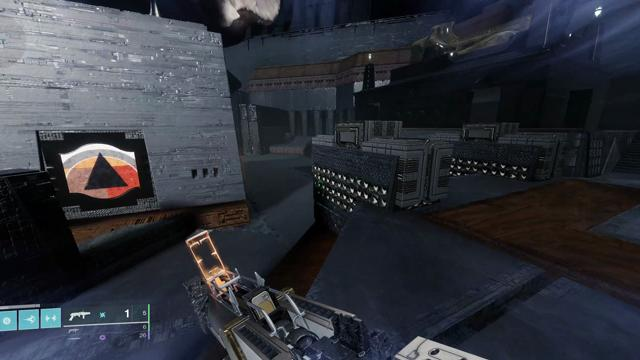pyramid: (60, 143, 141, 199)
